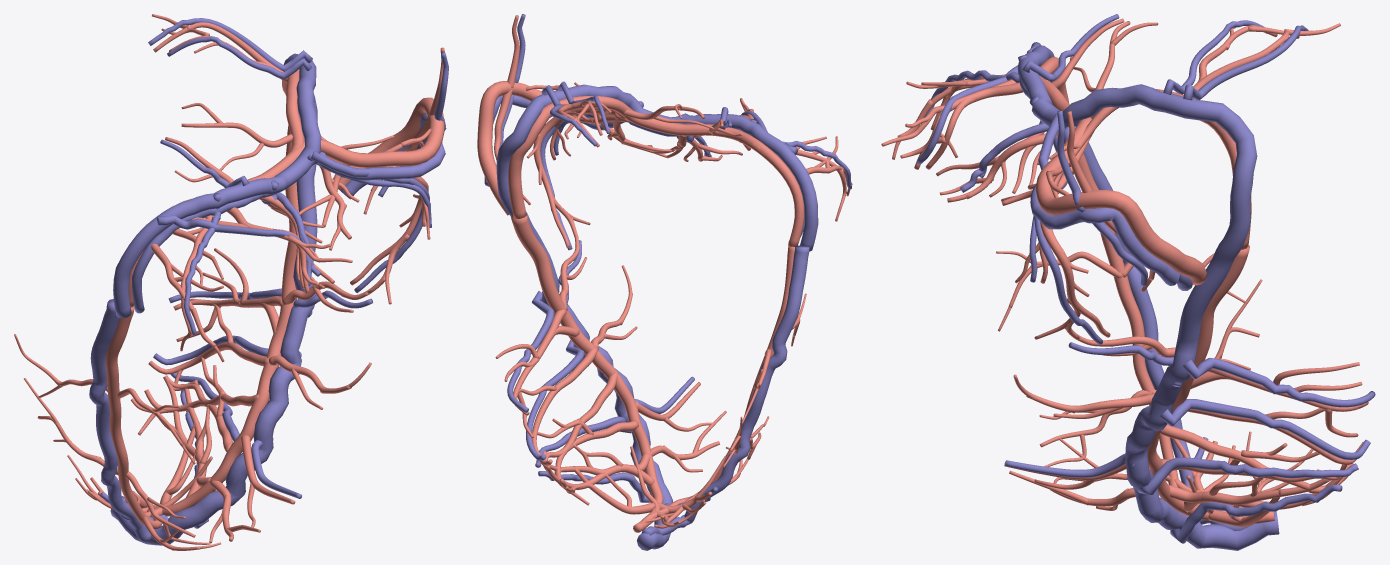
File: vessels_38.glb
3 renders of one model, left to right at view 1: azimuth 30°, elevation 25°; view 2: azimuth 150°, elevation 25°; view 3: azimuth 270°, elevation 25°, orthographic. The views are drawn at different scales.
Parts seen in each view (by area): view 1: Renderer Node; view 2: Renderer Node; view 3: Renderer Node.
Boxes of the visible parts, x1,y1,x2,y2 form: Renderer Node: (14,14,448,550); Renderer Node: (477,14,852,550); Renderer Node: (881,14,1375,550).
Size of the model in its own units: 90.36 by 115 by 90.98.
